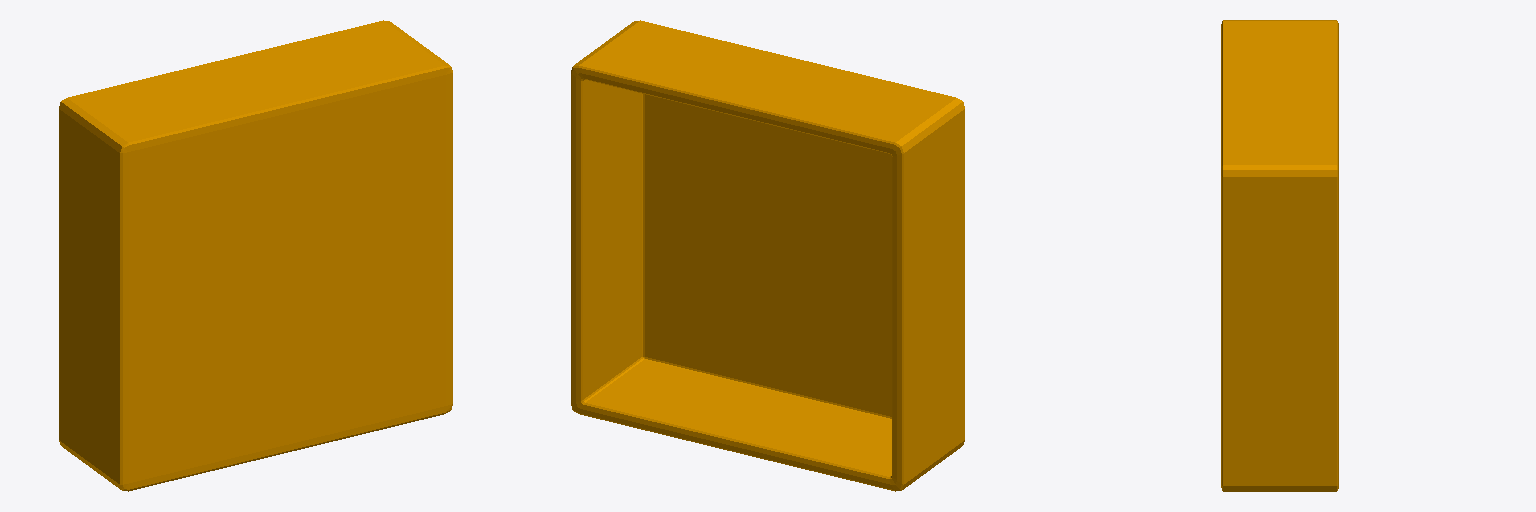
URDF robot description (indenter):
<robot name="indenter">
	<!-- <link name="world">
        </link> -->

        <!-- <joint name="world_to_indenter" type="prismatic">
                <parent link="world"/>
                <child link="indenter"/>
                <origin rpy="0.0 0.0 0.0" xyz="0.0 0.0 0.0"/>
                <axis xyz="0 1 0"/>
                <dynamics damping="0.0" friction="0.0"/>
                <limit lower="0.0" upper="0.1" velocity="1e9" effort="1e9"/>
        </joint> -->

	<link name="indenter">
		<visual>
			<origin rpy="0.0 0.0 0.0" xyz="0.0 0.0 0.0"/>
			<geometry>
				<mesh filename="../../meshes/target_objects/square_pot.obj"/>
			</geometry>
		</visual>
		<collision>
			<origin rpy="0.0 0.0 0.0" xyz="0.0 0.0 0.0"/>
			<geometry>
				<mesh filename="../../meshes/target_objects/square_pot.obj"/>
			</geometry>
		</collision>
		<inertial>
			<origin rpy="0.0 0.0 0.0" xyz="0.0 -8.64389e-3 0.0"/>
			<mass value="0.00224114"/>
			<inertia ixx="6.25553e-8" iyy="4.07645e-8" izz="6.25353e-8" ixy="0.0" ixz="4.69820e-15" iyz="0.0"/>
		</inertial>
	</link>
</robot>

--- What the picture shows (computed from the rendered views, not written in the file) ---
The picture shows the robot from 3 angles, left to right: view 1: azimuth 30°, elevation 25°; view 2: azimuth 150°, elevation 25°; view 3: azimuth 270°, elevation 25°; orthographic projection.
Robot: indenter — 1 links, 0 joints (none); root link indenter; default pose: all joints at 0.
Visible links, largest first — view 1: indenter; view 2: indenter; view 3: indenter.
Boxes of the visible links, x1,y1,x2,y2 form: indenter: (59,20,452,491); indenter: (571,20,964,491); indenter: (1221,20,1338,491).
Bounding box of the posed robot: 0.15 × 0.0492 × 0.15 m (x, y, z).
1 mesh visuals loaded from 1 distinct referenced files (1 OBJ).